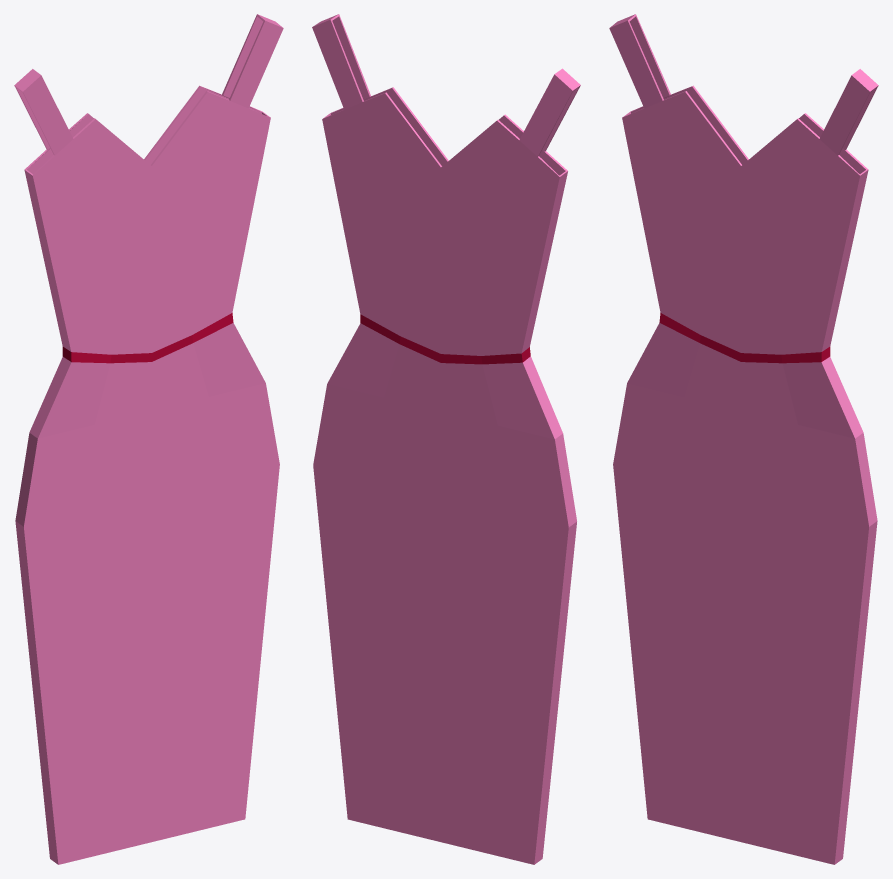
File: clothe-2.fbx
3 renders of one model, left to right at view 1: azimuth 30°, elevation 25°; view 2: azimuth 150°, elevation 25°; view 3: azimuth 330°, elevation 25°, orthographic.
Parts seen in each view (by area): view 1: Plane; view 2: Plane; view 3: Plane.
Part boxes in pixels (bbox=[...]): Plane: bbox=[14, 14, 283, 864]; Plane: bbox=[312, 14, 580, 864]; Plane: bbox=[609, 14, 878, 864].
Size of the model in its own units: 47.88 by 139 by 3.13.
